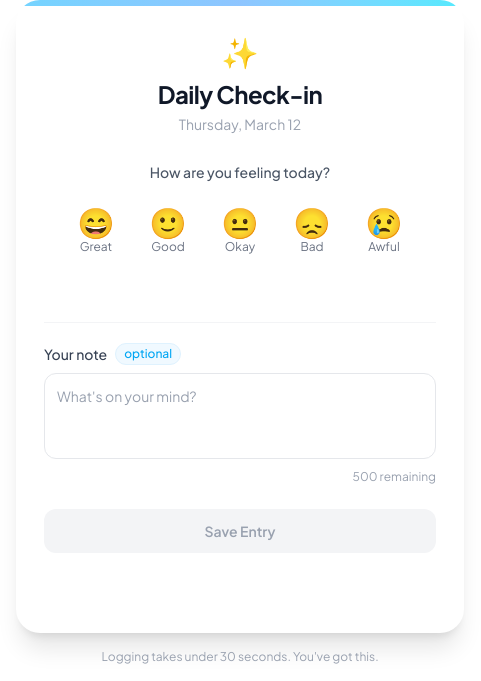
Test: MoodPicker (log entry form) › mood selection › updates the feeling indicator when switching moods
The image size is (481, 681).
Step 1. Click the button with aria-label "Select mood: Great" → (96,230), box [64,198,128,262]
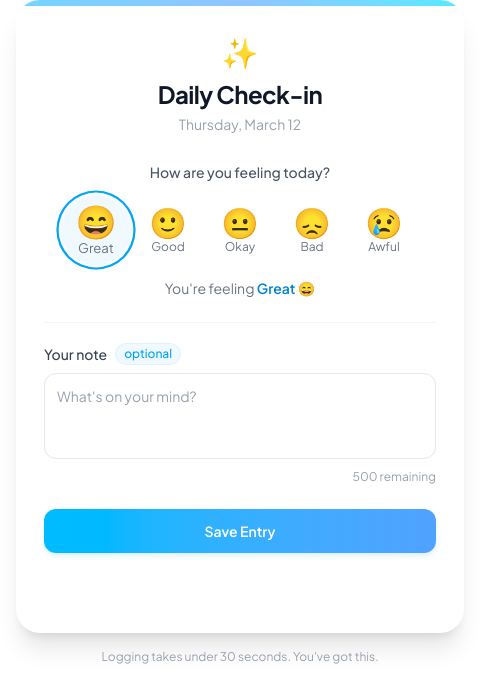
Step 2. Click the button with aria-label "Select mood: Bad" → (312,230), box [280,198,344,262]
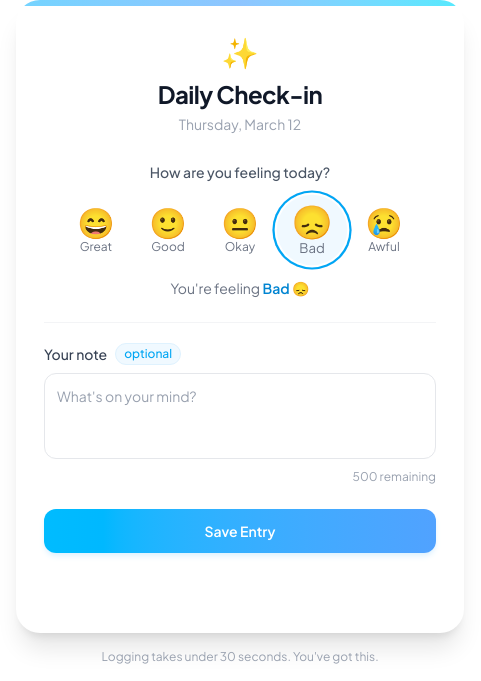
Check: the text "You're feeling Bad 😞" is shown, box [170,278,310,298]
